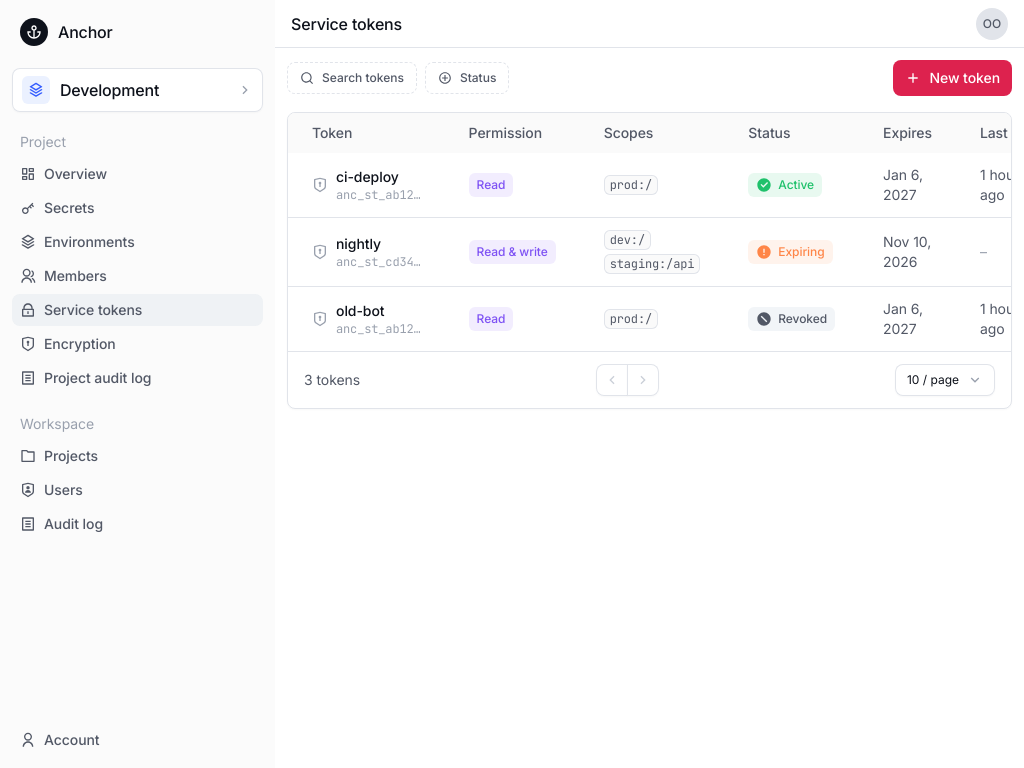
Test: /projects/$project/settings/service-tokens › invalid scope path blocks submit
expect the text "ci-deploy" is shown: met, box [336, 168, 399, 185]
Step 1. Click the button "New token" → {"x": 953, "y": 78}, box [894, 60, 1012, 96]
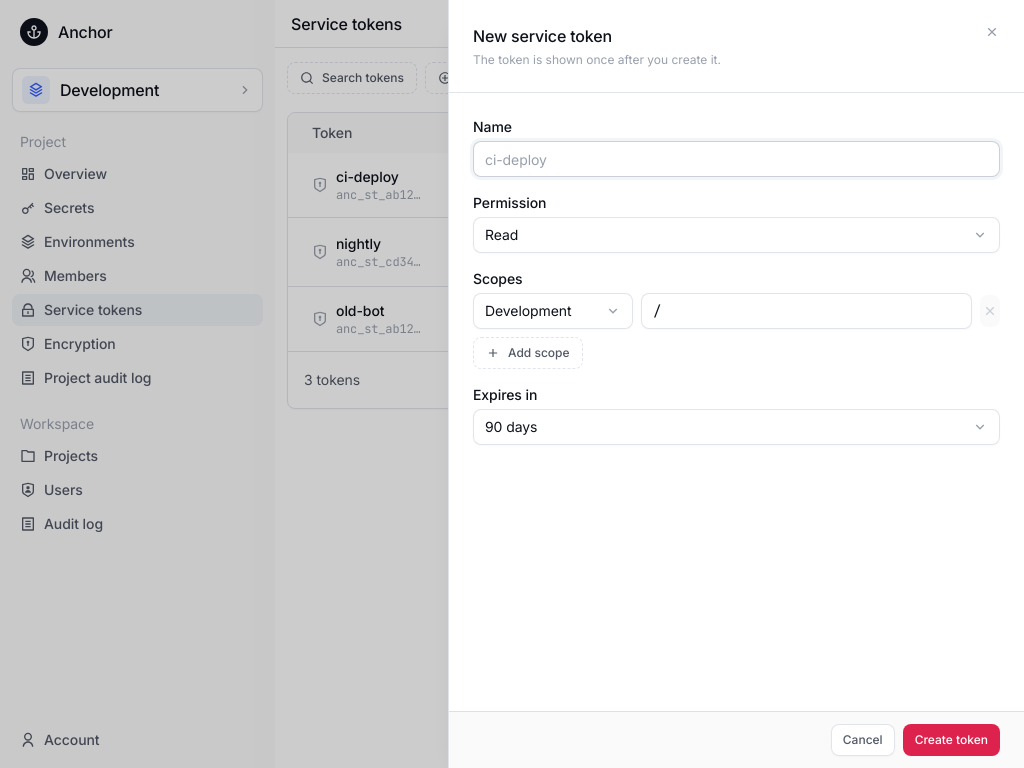
Step 2. Type "bad" into the field labelled "Name" → {"x": 736, "y": 159}, box [485, 141, 988, 177]
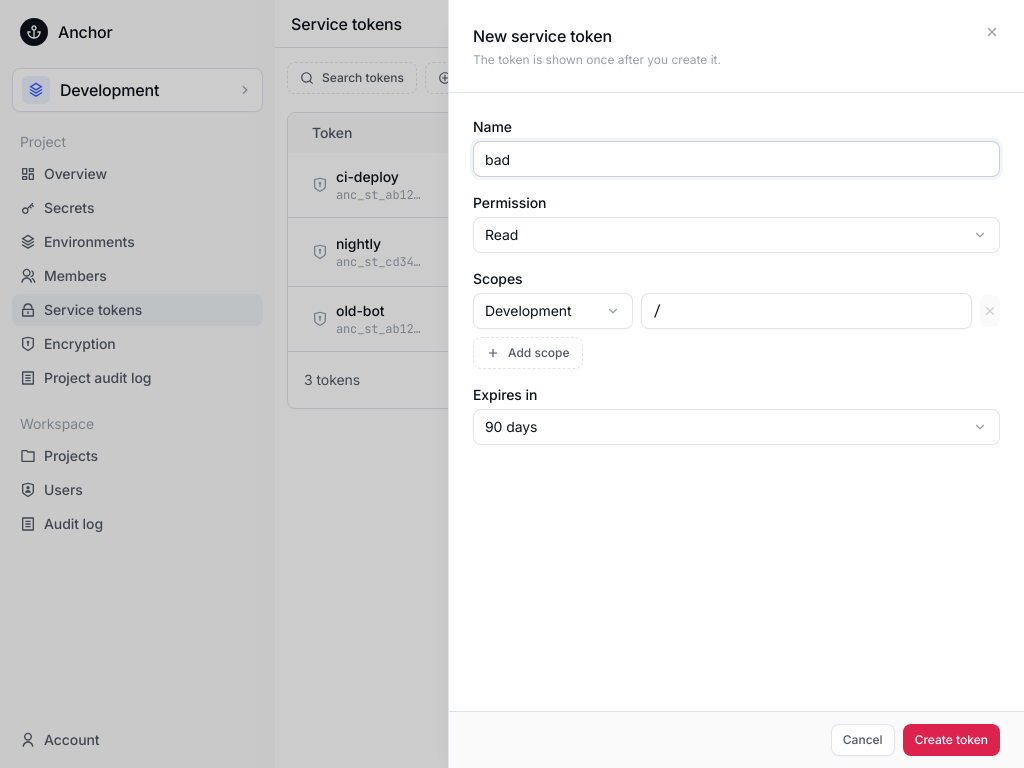
Step 3. Replace the text in the field named "Path for scope 1" with "../x" → {"x": 807, "y": 311}, box [653, 293, 960, 329]
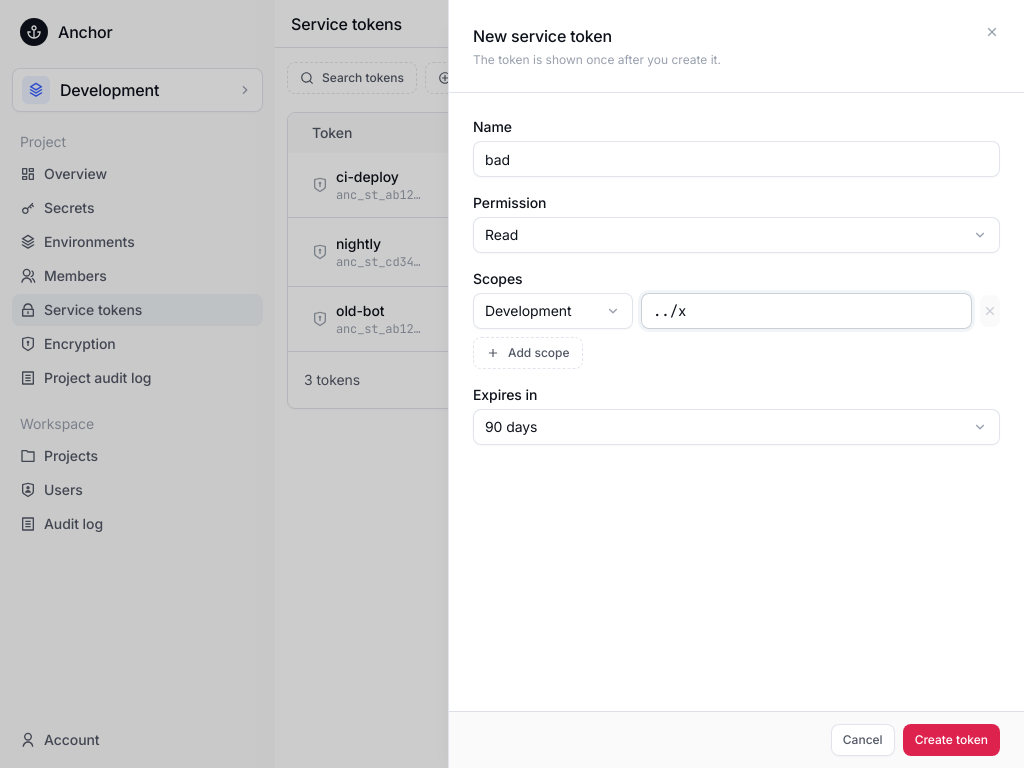
Step 4. Click the button "Create token" → {"x": 951, "y": 740}, box [903, 724, 1000, 756]
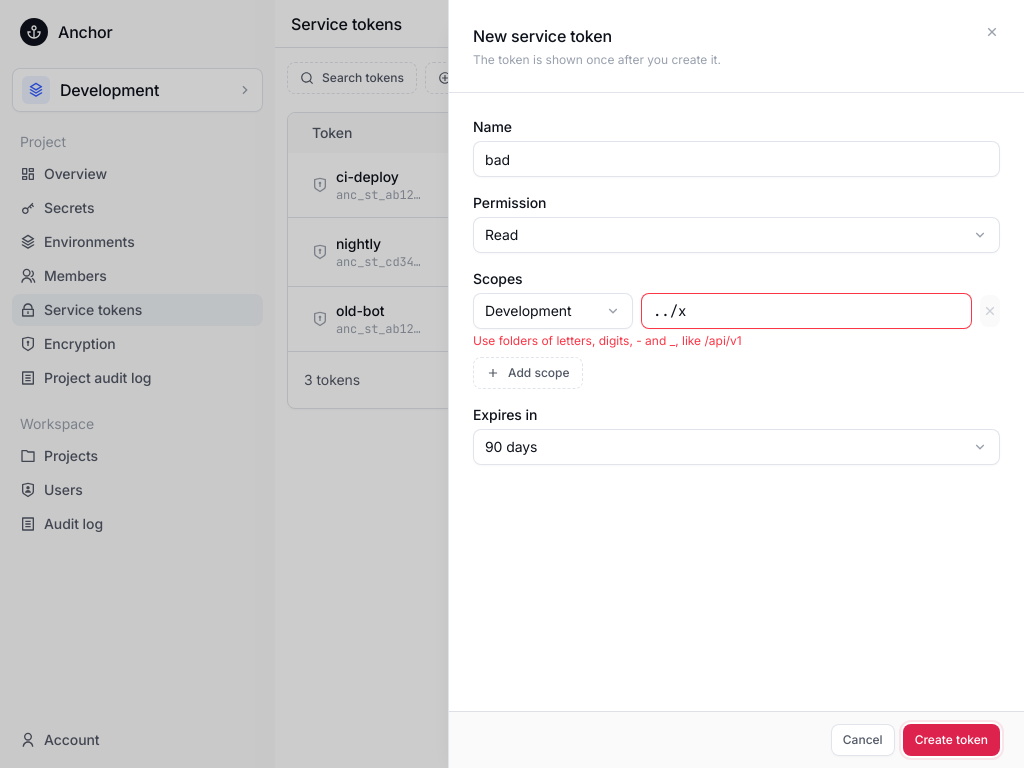
expect the text "Use folders of letters, digits, - and _, like /api/v1" is shown: met, box [473, 333, 742, 348]
